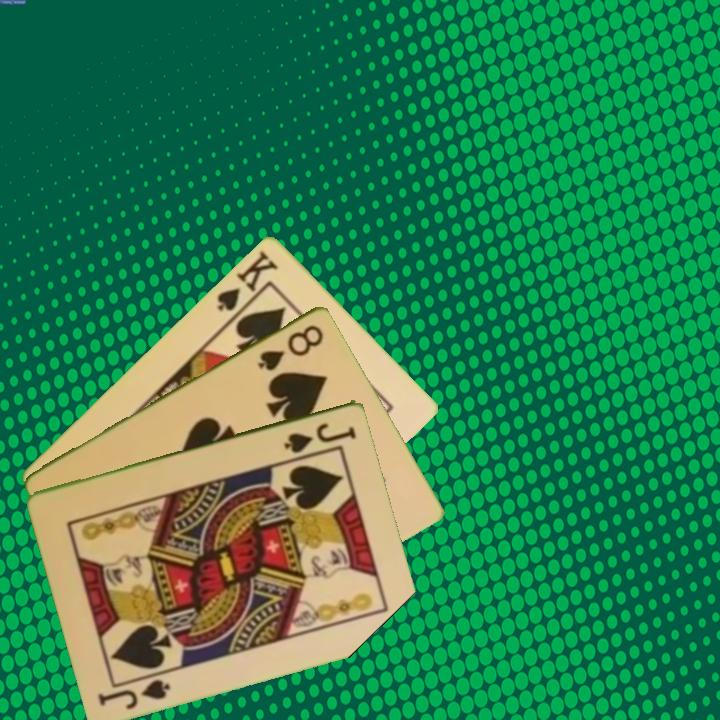8s: (254, 320, 327, 374)
Js: (95, 675, 173, 712), (280, 419, 359, 455)
Ks: (213, 246, 282, 322)
